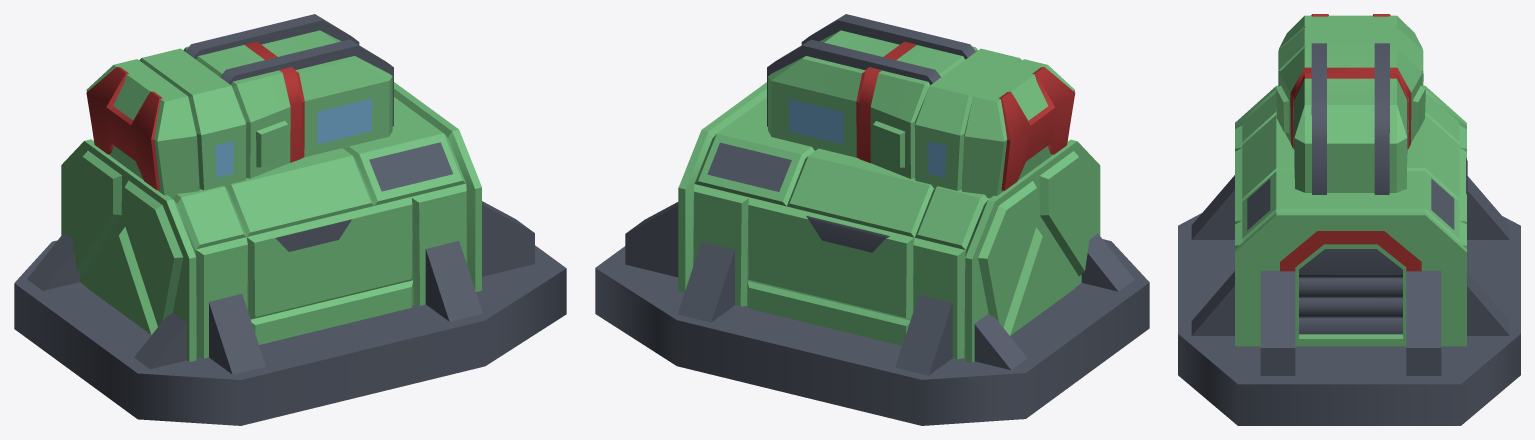
Rendered from Building1.fbx.
3 renders of one model, left to right at view 1: azimuth 30°, elevation 25°; view 2: azimuth 150°, elevation 25°; view 3: azimuth 270°, elevation 25°, orthographic. The views are drawn at different scales.
Visible parts, largest first — view 1: wBox.002; view 2: wBox.002; view 3: wBox.002.
Boxes of the visible parts, x1=… form: wBox.002: x1=14, y1=14, x2=566, y2=425; wBox.002: x1=595, y1=14, x2=1149, y2=425; wBox.002: x1=1178, y1=14, x2=1520, y2=425.
Size of the model in its own units: 196 by 122 by 149.
